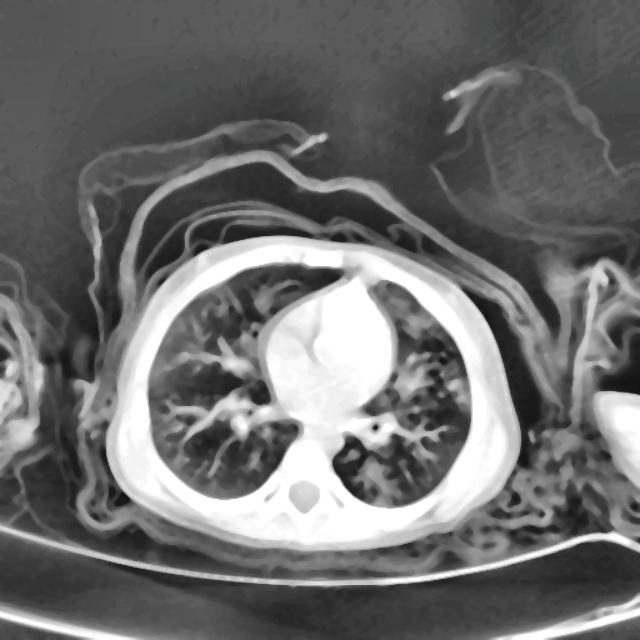covid: (101, 232, 523, 553)
